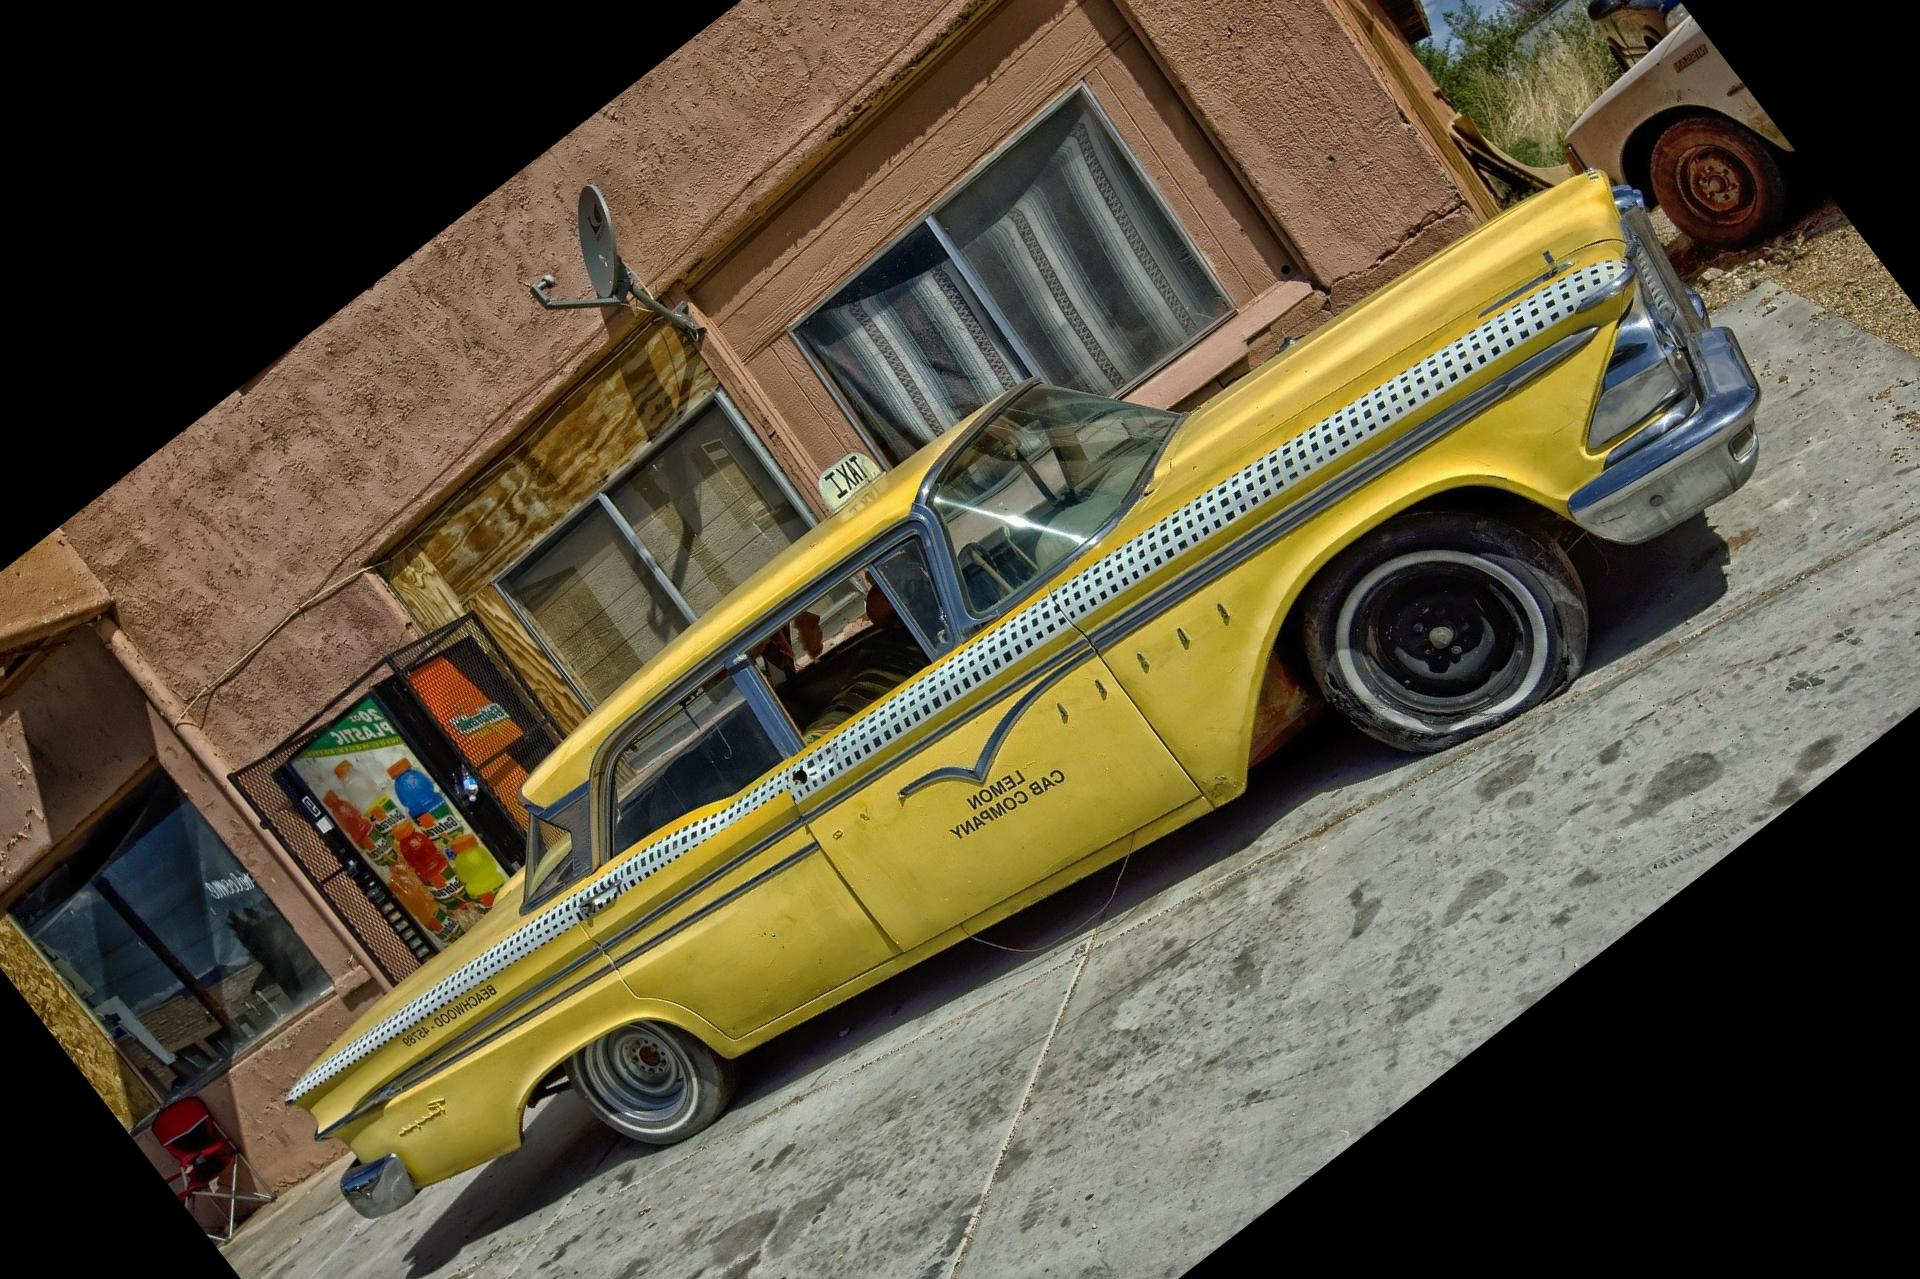taxi: (283, 158, 1782, 1223)
